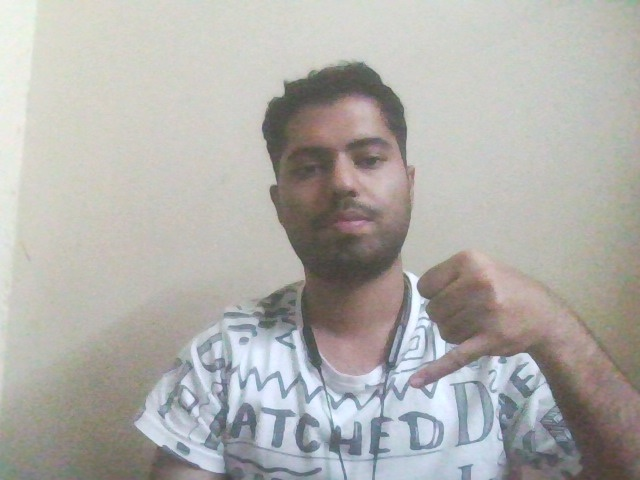L: (382, 231, 568, 399)
